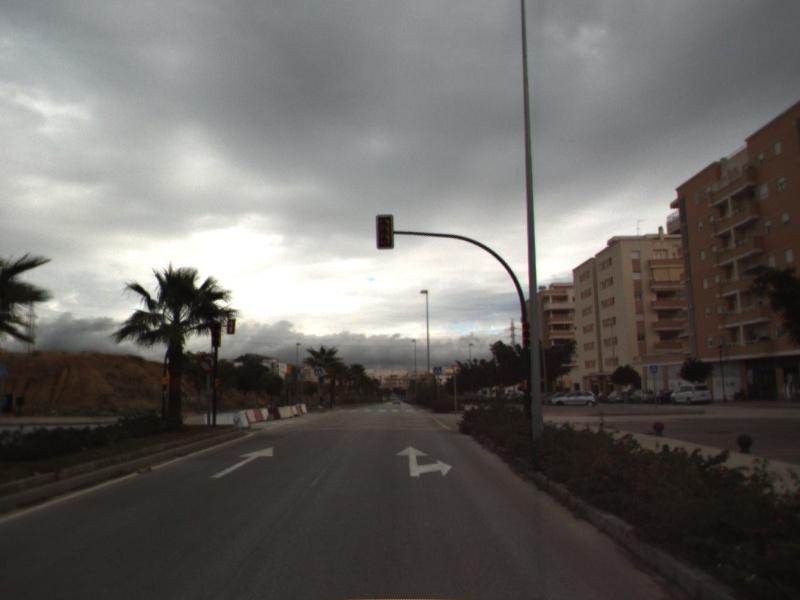STRAIGHT: (208, 445, 275, 480)
STRAIGHT_RIGHT: (394, 444, 455, 478)
